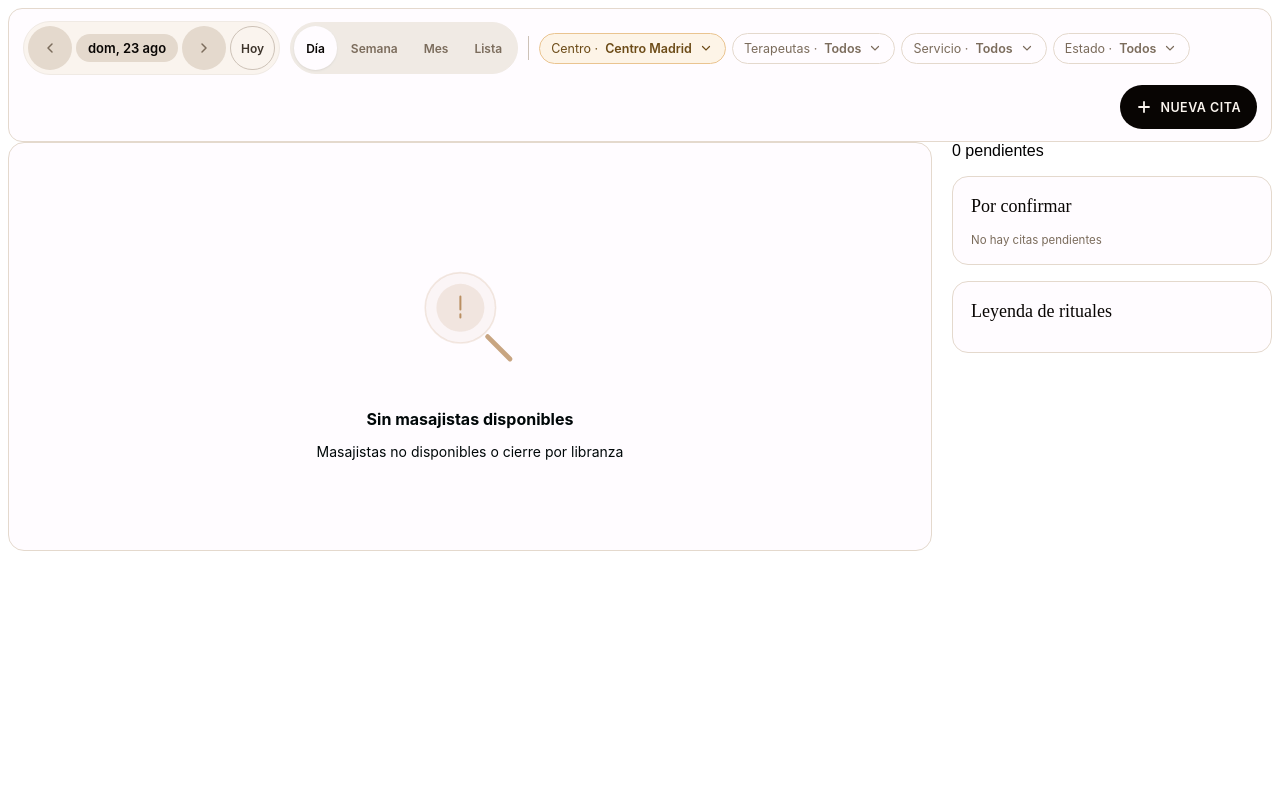
AdminAgendaView — cross-view day navigation › clicking a Month cell switches to Day view for that date
The image size is (1280, 800).
Click the button "Mes". click: (436, 48)
box: left=412, top=26, right=460, bottom=70
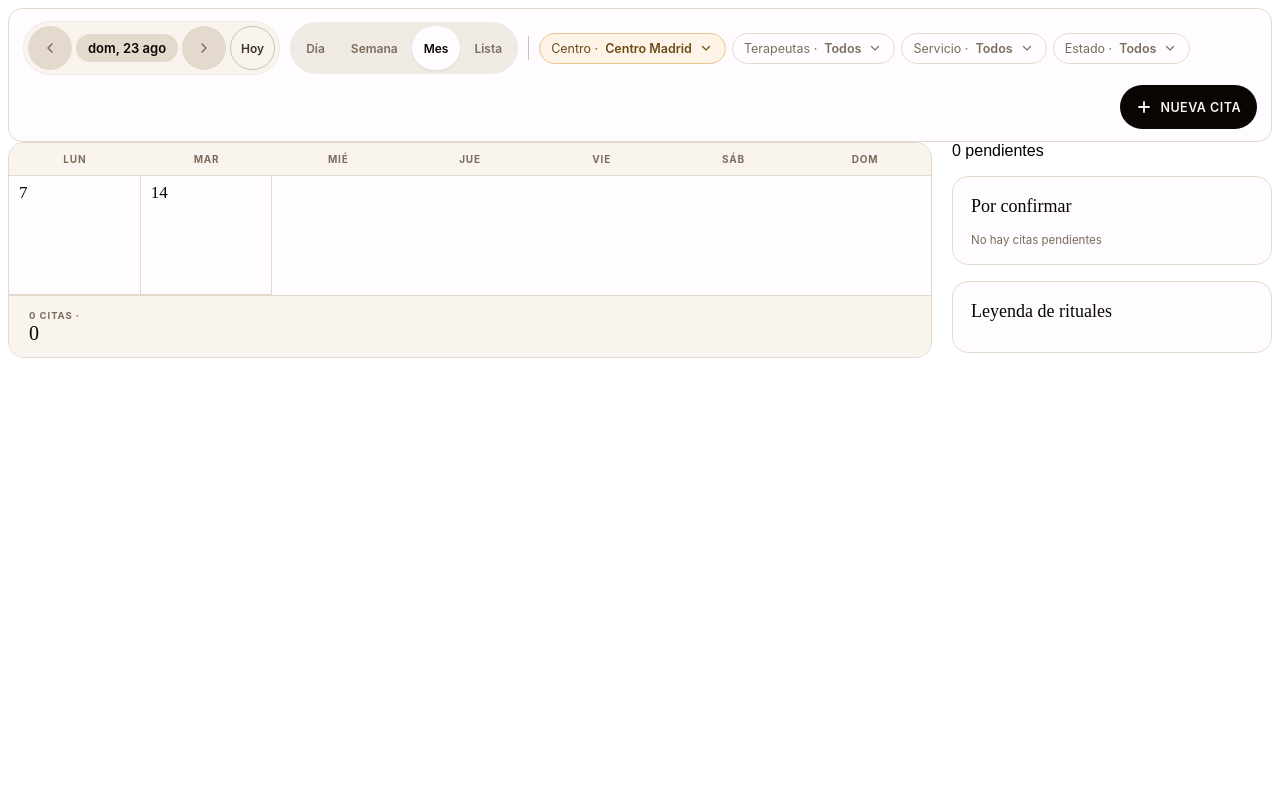
Click the element named "14 · 0 citas". click: (207, 236)
box: left=141, top=176, right=272, bottom=295
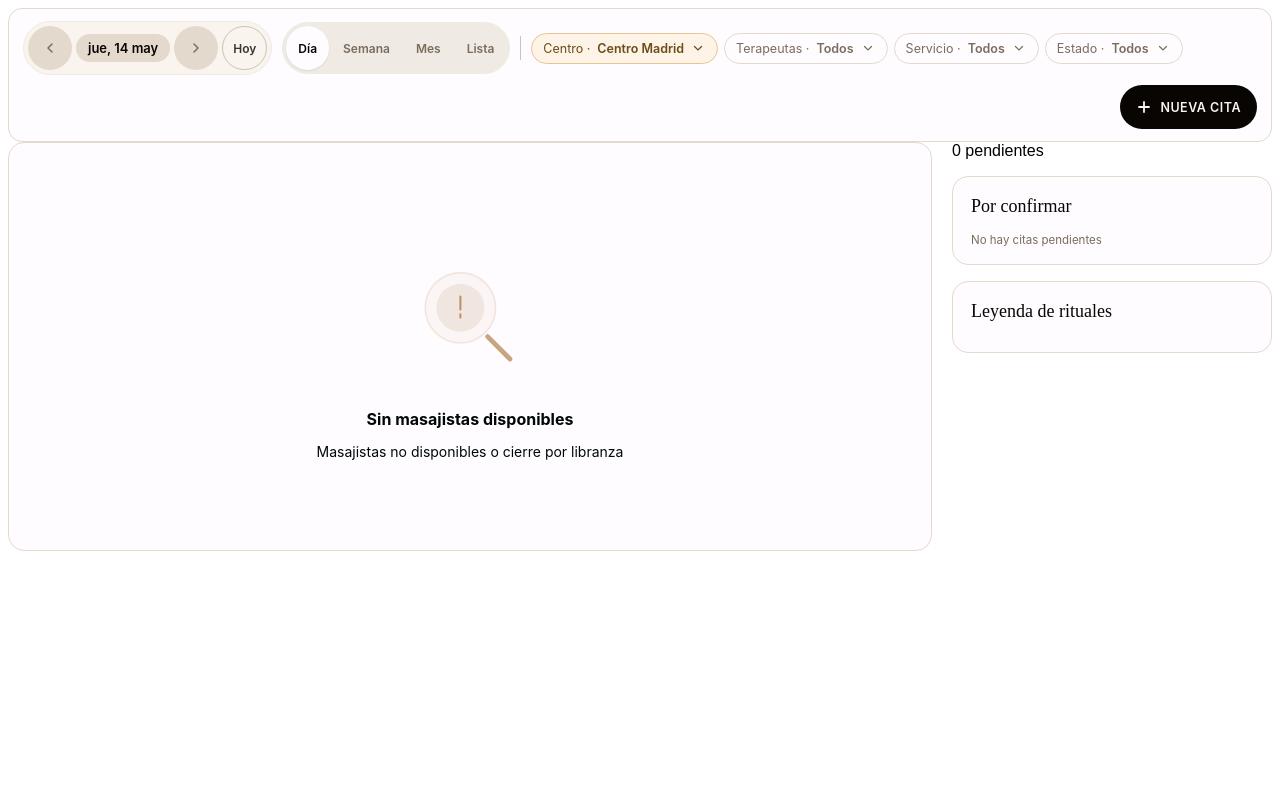
expect the element named "Calendario de agenda" is shown: met, box left=8, top=142, right=932, bottom=551
